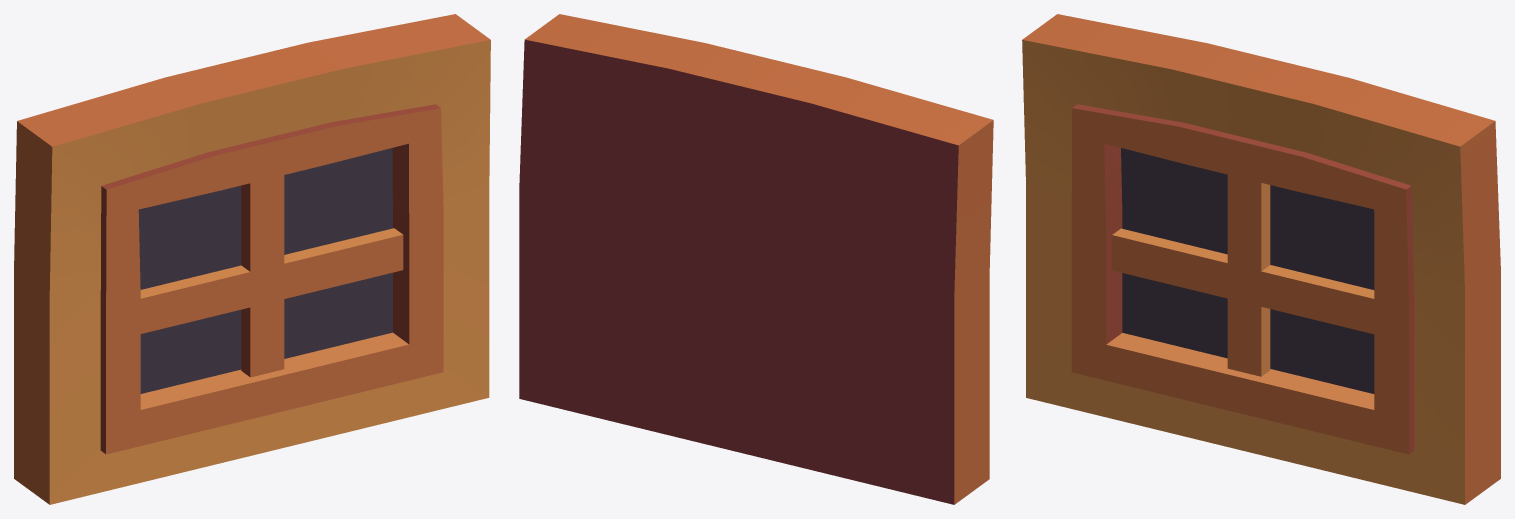
The model's file is Window02_Orange_Wood.glb.
3 renders of one model, left to right at view 1: azimuth 30°, elevation 25°; view 2: azimuth 150°, elevation 25°; view 3: azimuth 330°, elevation 25°, orthographic.
Visible parts, largest first — view 1: Window02_Orange_Wood; view 2: Window02_Orange_Wood; view 3: Window02_Orange_Wood.
Part boxes in pixels (x1=…): Window02_Orange_Wood: x1=14, y1=14, x2=490, y2=504; Window02_Orange_Wood: x1=519, y1=14, x2=993, y2=504; Window02_Orange_Wood: x1=1022, y1=14, x2=1500, y2=504.
Size of the model in its own units: 0.9012 by 0.7186 by 0.1456.
Materials: 1 (1 with a texture image).
